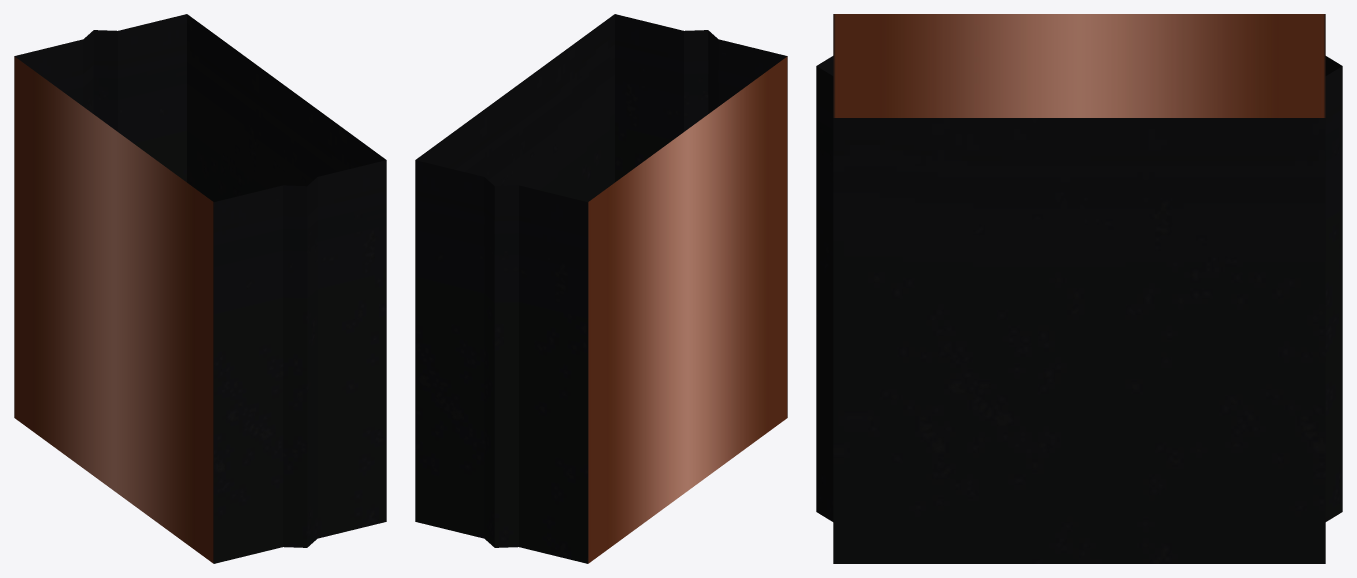
The model's file is Track002.fbx.
3 renders of one model, left to right at view 1: azimuth 30°, elevation 25°; view 2: azimuth 150°, elevation 25°; view 3: azimuth 270°, elevation 25°, orthographic. The views are drawn at different scales.
Visible parts, largest first — view 1: track002; view 2: track002; view 3: track002.
Part boxes in pixels (x1=…): track002: x1=14, y1=14, x2=386, y2=563; track002: x1=415, y1=14, x2=787, y2=563; track002: x1=816, y1=14, x2=1342, y2=563.
Bounding box in the file's own units: 19.69 × 39.37 × 42.1.
1 material, 1 textured.
